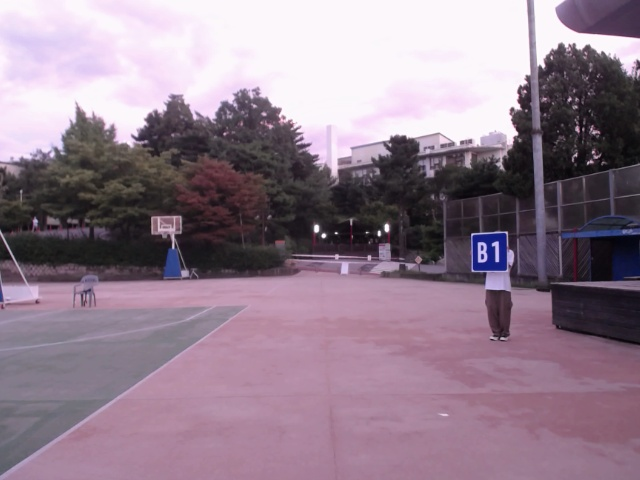delivery_b1: (472, 232, 508, 274)
